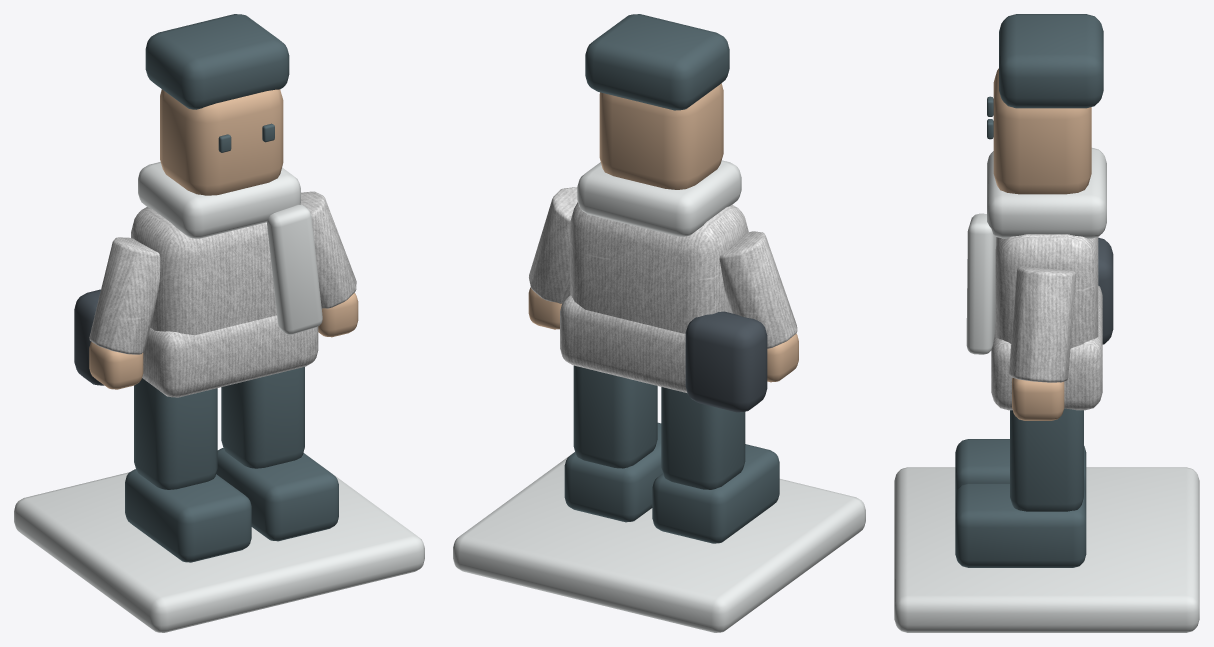
The model's file is adventurer-figurine.glb.
3 views of the same model, side by side, from view 1: azimuth 30°, elevation 25°; view 2: azimuth 150°, elevation 25°; view 3: azimuth 270°, elevation 25° (orthographic). The views are drawn at different scales.
Parts seen in each view (by area): view 1: catalog_surface_RealismUV, catalog_surface_UVMap; view 2: catalog_surface_RealismUV, catalog_surface_UVMap; view 3: catalog_surface_RealismUV, catalog_surface_UVMap.
Part boxes in pixels (x1,y1,x2,y2): catalog_surface_RealismUV: (14, 89, 424, 632); catalog_surface_UVMap: (125, 14, 338, 562); catalog_surface_RealismUV: (453, 83, 865, 632); catalog_surface_UVMap: (564, 14, 779, 543); catalog_surface_RealismUV: (894, 68, 1199, 632); catalog_surface_UVMap: (955, 14, 1103, 567).
Bounding box in the file's own units: 0.15 × 0.27 × 0.14.
Materials: 6 (1 with a texture image).
